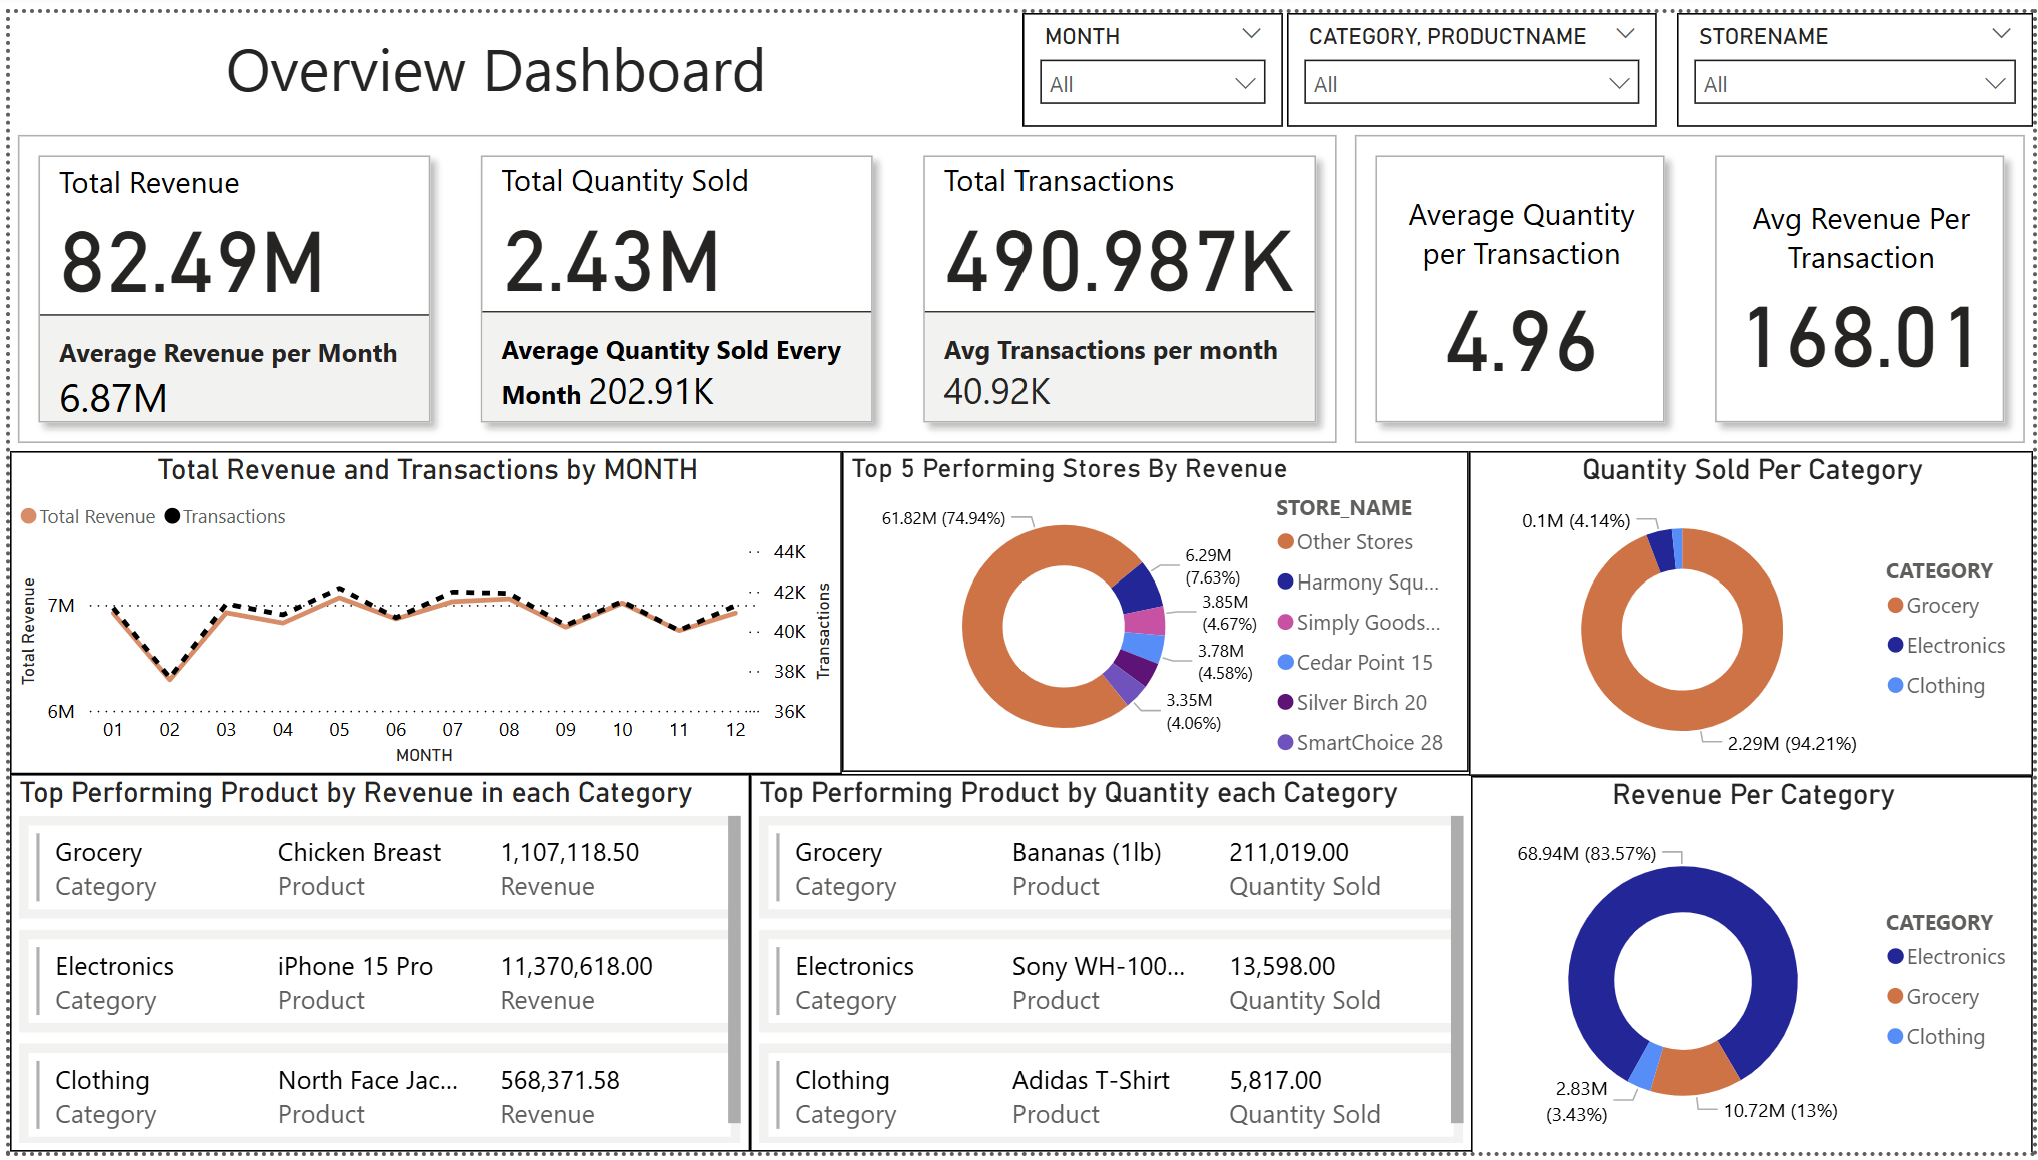

What the dashboard file says about the page in this screenshot:
{"tool":"powerbi","page":{"name":"OverView","canvas":[1280,720],"ordinal":0},"visuals":[{"type":"cardVisual","fields":{"Data":["Sum(TRANSACTIONS.TOTALPRICE)","Sum(TRANSACTIONS.QUANTITY)","Count(TRANSACTIONS.TRANSACTIONID)"]},"box":[0,72.2,845.6,205.1],"z":0},{"type":"lineChart","fields":{"Category":["TRANSACTIONS.MONTH"],"Y":["Sum(TRANSACTIONS.TOTALPRICE)"],"Y2":["Count(TRANSACTIONS.TRANSACTIONID)"]},"box":[0,277.2,526.6,203.8],"z":1000},{"type":"slicer","fields":{"Values":["TRANSACTIONS.MONTH"]},"box":[640.5,0,164.6,72.2],"z":2000},{"type":"slicer","fields":{"Values":["PRODUCTS.CATEGORY","PRODUCTS.PRODUCTNAME"]},"box":[807.6,0,234.2,72.2],"z":3000},{"type":"slicer","fields":{"Values":["STORES.STORENAME"]},"box":[1054.4,0,225.3,72.2],"z":4000},{"type":"multiRowCard","title":"Top Performing Product by Revenue in each Category","fields":{"Values":["PRODUCTS.CATEGORY","PRODUCT_RANK.PRODUCTNAME","Sum(TRANSACTIONS.TOTALPRICE)"]},"box":[0,481,468.4,239.2],"z":5000},{"type":"multiRowCard","title":"Top Performing Product by Quantity each Category","fields":{"Values":["PRODUCTS.CATEGORY","PRODUCT_RANK.PRODUCTNAME","Sum(TRANSACTIONS.QUANTITY)"]},"box":[468.4,481,457,239.2],"z":6000},{"type":"cardVisual","fields":{"Data":["CATEGORY_SHARE.Average Quantity per Trasaction","CATEGORY_SHARE.Avg Revenue Per Transaction"]},"box":[845.6,72.2,434.2,205.1],"z":7000},{"type":"textbox","box":[131.6,3.8,362,67.1],"z":8000},{"type":"donutChart","title":"Revenue Per Category","fields":{"Category":["PRODUCTS.CATEGORY"],"Y":["Sum(TRANSACTIONS.TOTALPRICE)"]},"box":[924.1,482.3,355.7,239.2],"z":9000},{"type":"donutChart","title":"Quantity Sold Per Category","fields":{"Category":["PRODUCTS.CATEGORY"],"Y":["Sum(TRANSACTIONS.QUANTITY)"]},"box":[922.8,277.2,357,205.1],"z":10000},{"type":"donutChart","title":"Top 5 Performing Stores By Revenue","fields":{"Category":["TOP_5_STORE_REVENUE_CONTIBUTION.STORE_NAME"],"Y":["Sum(TOP_5_STORE_REVENUE_CONTIBUTION.STORES_REVENUE)"]},"box":[526.6,277.2,396.2,202.5],"z":11000}]}

Visuals, with their boxes in screenshot pixels (x1, y1, x2, y2), scaled from the page's 1280x720 canvas onto the 2038x1160 screenshot:
cardVisual - Sum(TRANSACTIONS.TOTALPRICE) x Sum(TRANSACTIONS.QUANTITY): 0,116,1346,447
lineChart - TRANSACTIONS.MONTH x Sum(TRANSACTIONS.TOTALPRICE): 0,447,838,775
slicer - TRANSACTIONS.MONTH: 1020,0,1282,116
slicer - PRODUCTS.CATEGORY x PRODUCTS.PRODUCTNAME: 1286,0,1659,116
slicer - STORES.STORENAME: 1679,0,2037,116
"Top Performing Product by Revenue in each Category" multiRowCard: 0,775,746,1159
"Top Performing Product by Quantity each Category" multiRowCard: 746,775,1473,1159
cardVisual - CATEGORY_SHARE.Average Quantity per Trasaction x CATEGORY_SHARE.Avg Revenue Per Transaction: 1346,116,2037,447
textbox: 210,6,786,114
"Revenue Per Category" donutChart: 1471,777,2037,1159
"Quantity Sold Per Category" donutChart: 1469,447,2037,777
"Top 5 Performing Stores By Revenue" donutChart: 838,447,1469,773
